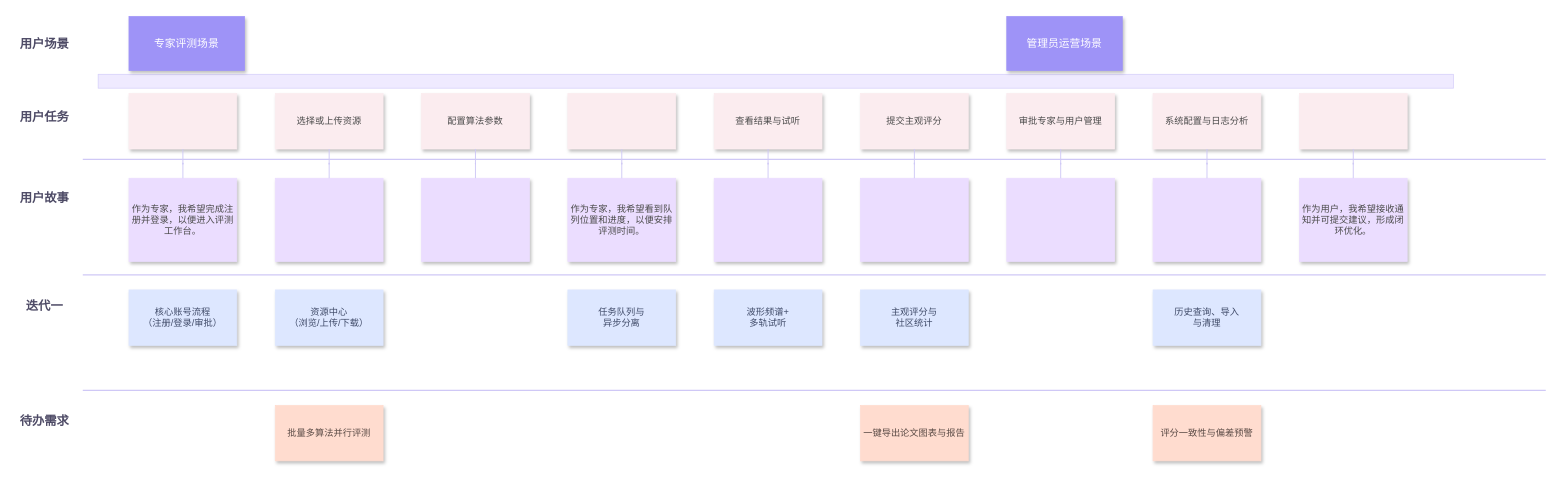
This 1559x480 diagram has some shape labels left out. Here are the shapes that lost their labels. From the top down, the centre of each, then its label:
(x=775, y=81): 价值流向
(x=183, y=122): 注册/登录申请
(x=622, y=122): 提交分离任务
(x=1354, y=122): 通知回复与反馈闭环
(x=329, y=220): 作为专家，我希望按分类筛选资源，以便在统一数据集上对比算法。
(x=476, y=220): 作为专家，我希望选择模型和参数，以便复现实验配置。
(x=768, y=220): 作为专家，我希望对比 Mixture / Stem / Gold，并查看波形频谱。
(x=915, y=220): 作为专家，我希望按声部提交评分并可修改，以便提升评估可靠性。
(x=1061, y=220): 作为管理员，我希望审批专家申请并管理用户权限。
(x=1207, y=220): 作为管理员，我希望维护系统配置、日志和任务统计。
